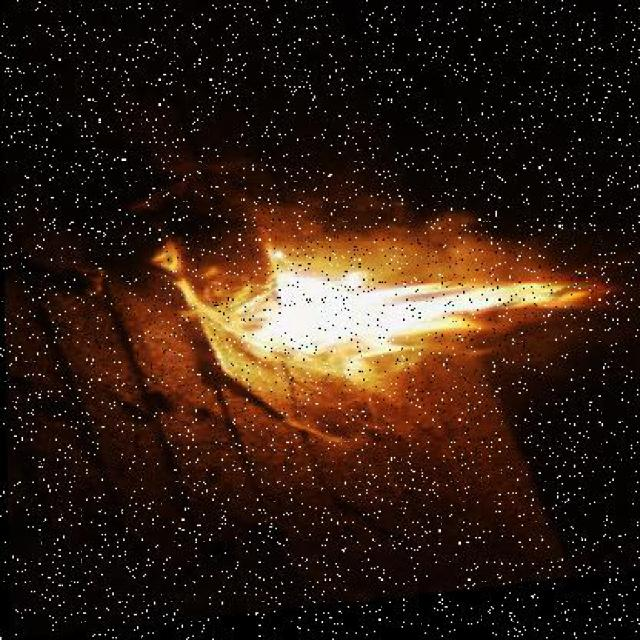fire: (189, 173, 623, 429)
